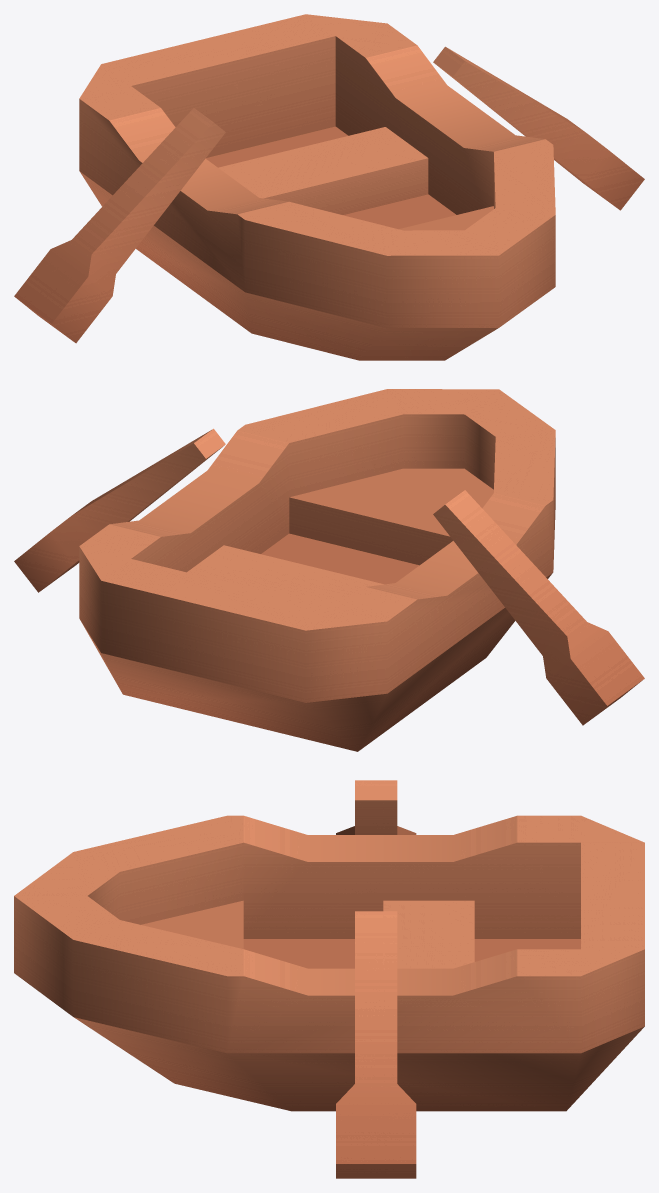
Rendered from boat_row_small.glb.
3 views of the same model, one above another, from view 1: azimuth 30°, elevation 25°; view 2: azimuth 150°, elevation 25°; view 3: azimuth 270°, elevation 25° (orthographic). The views are drawn at different scales.
Visible parts, largest first — view 1: boat-row-small, paddles; view 2: boat-row-small, paddles; view 3: boat-row-small, paddles.
Part boxes in pixels (x1,y1,x2,y2): boat-row-small: (79,14,555,360); paddles: (14,46,644,343); boat-row-small: (79,389,555,751); paddles: (14,428,644,725); boat-row-small: (14,815,644,1111); paddles: (336,780,416,1178).
Bounding box in the file's own units: 2.75 × 0.8477 × 2.37.
Materials: 1 (1 with a texture image).
